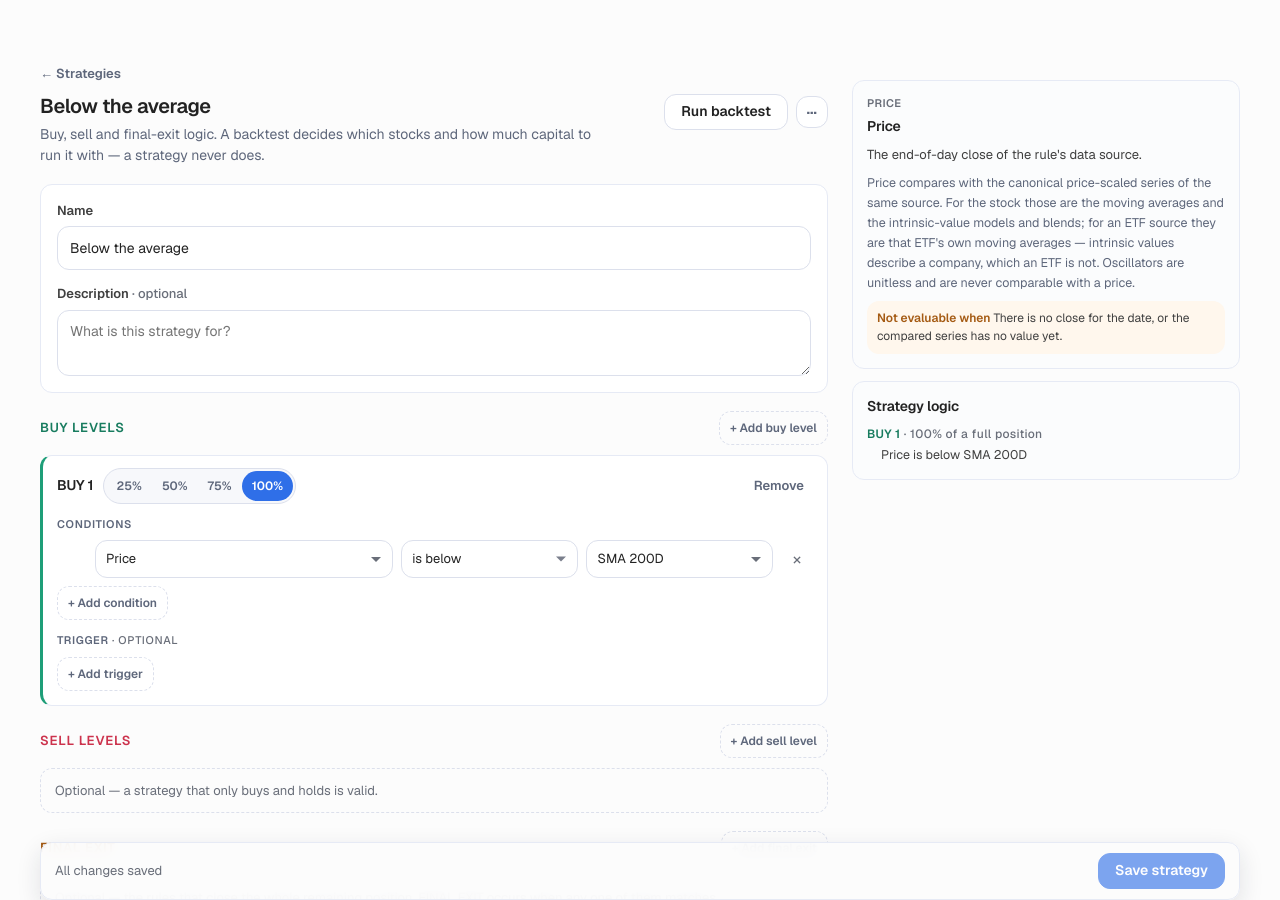
it: the Metric picker › switches from a market metric to an alternative-data one and reconciles the value
The image size is (1280, 900).
Click the button with test id "metric-picker".
click(121, 559)  # box [95,540,393,578]
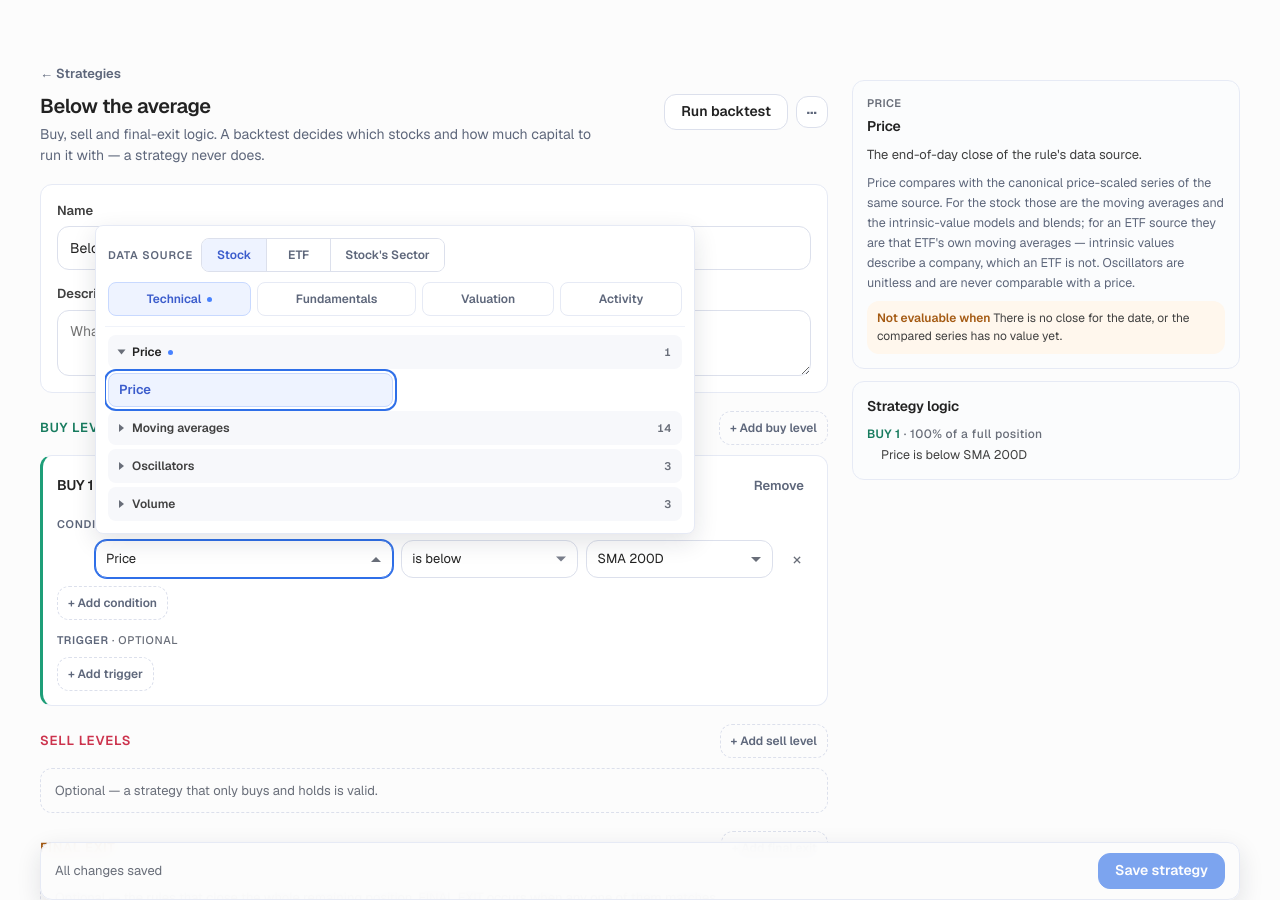
Click the tab "Activity".
click(621, 299)  # box [560,282,682,316]
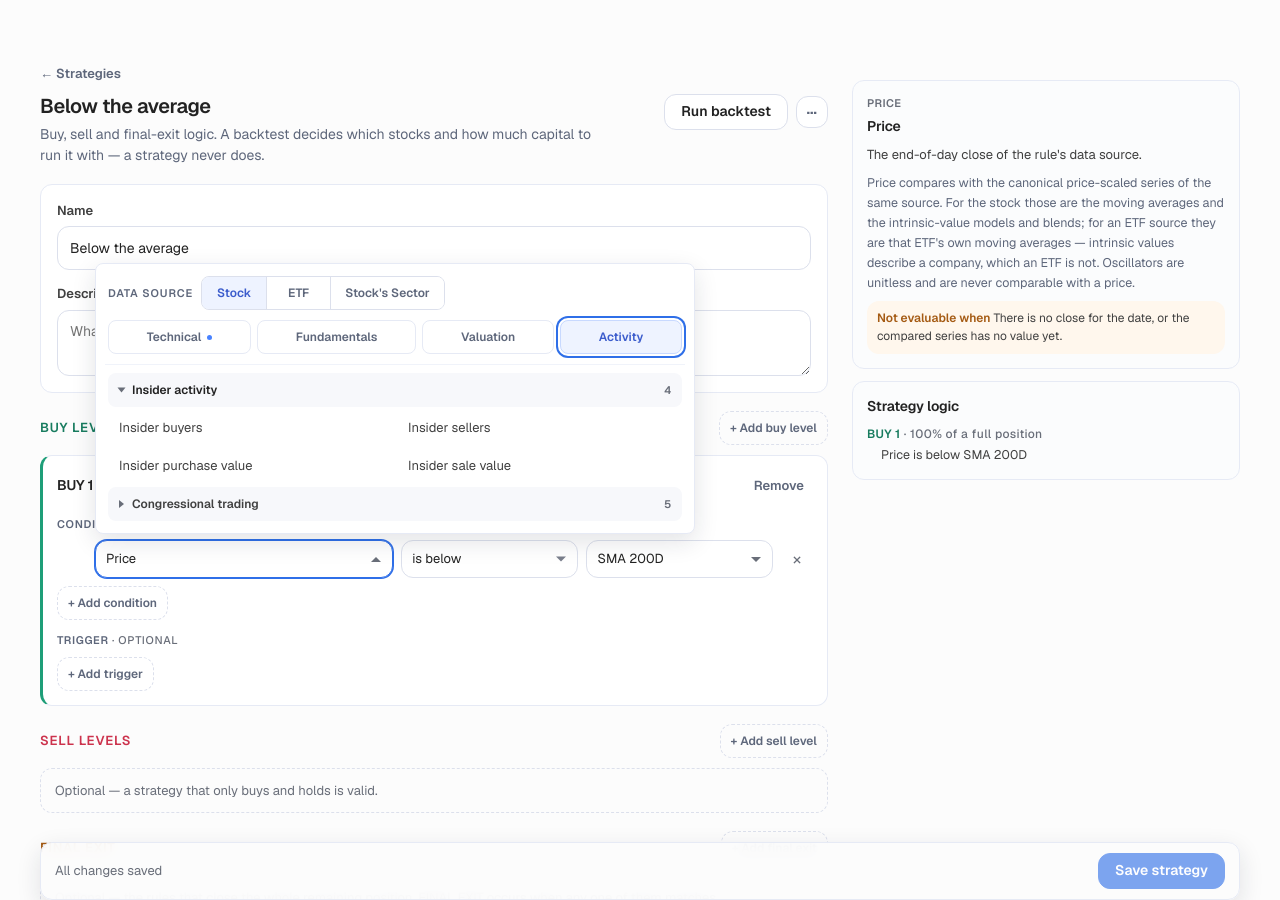
Click the button "Insider buyers".
click(161, 427)  # box [108,411,393,445]
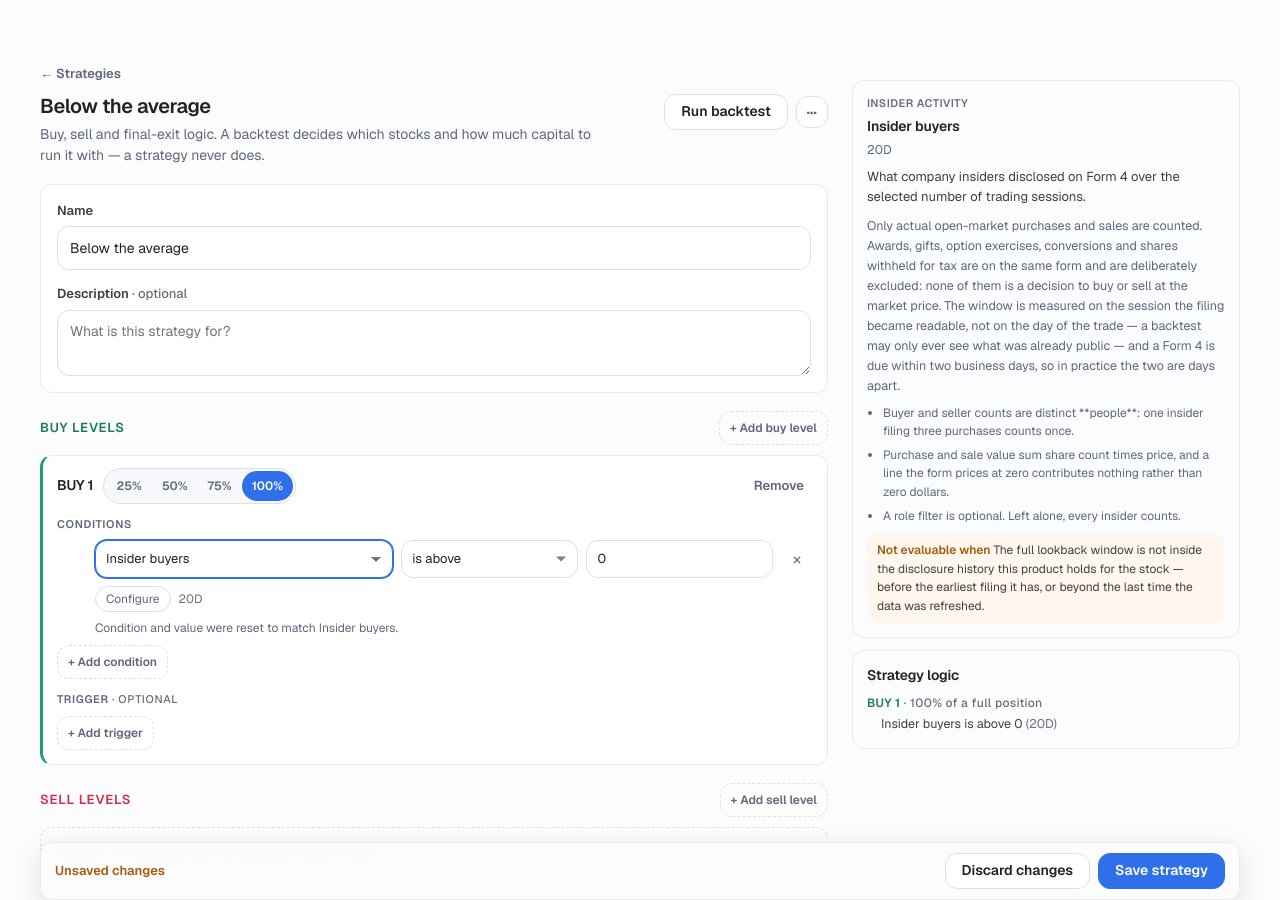
Now the text "Insider buyers" is shown, box [106,550,189,567]
Now the number field named "Value" holds "0", box [586,540,773,578]
Now the dropdown named "Condition" shows "is above", box [401,540,578,578]
